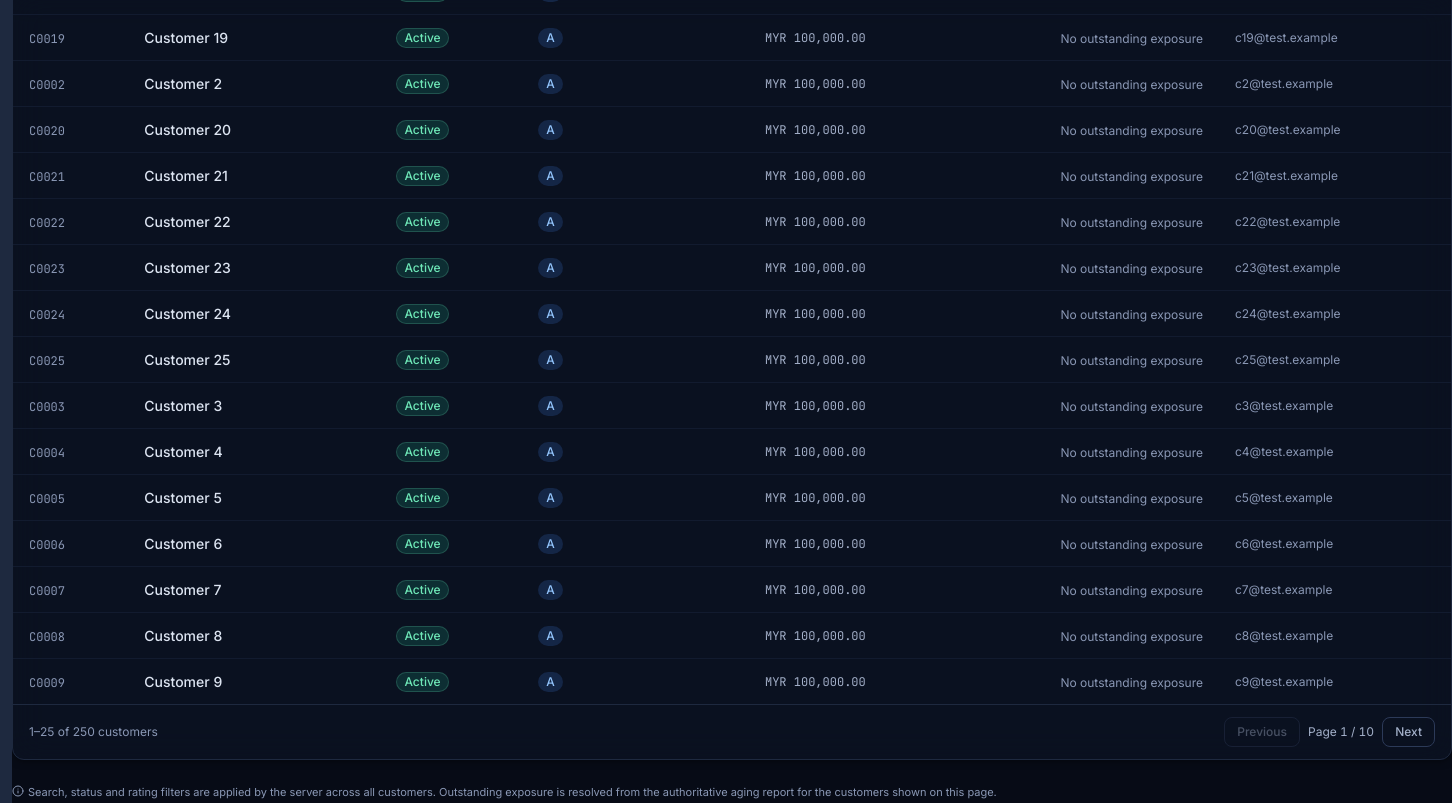
Test: Customer list — server pagination (B9DD-RR-002) › requests the correct server page when opening page 2
(page scrolled)
Click the button "Next" at (1409, 732), box [1382,717,1435,747]
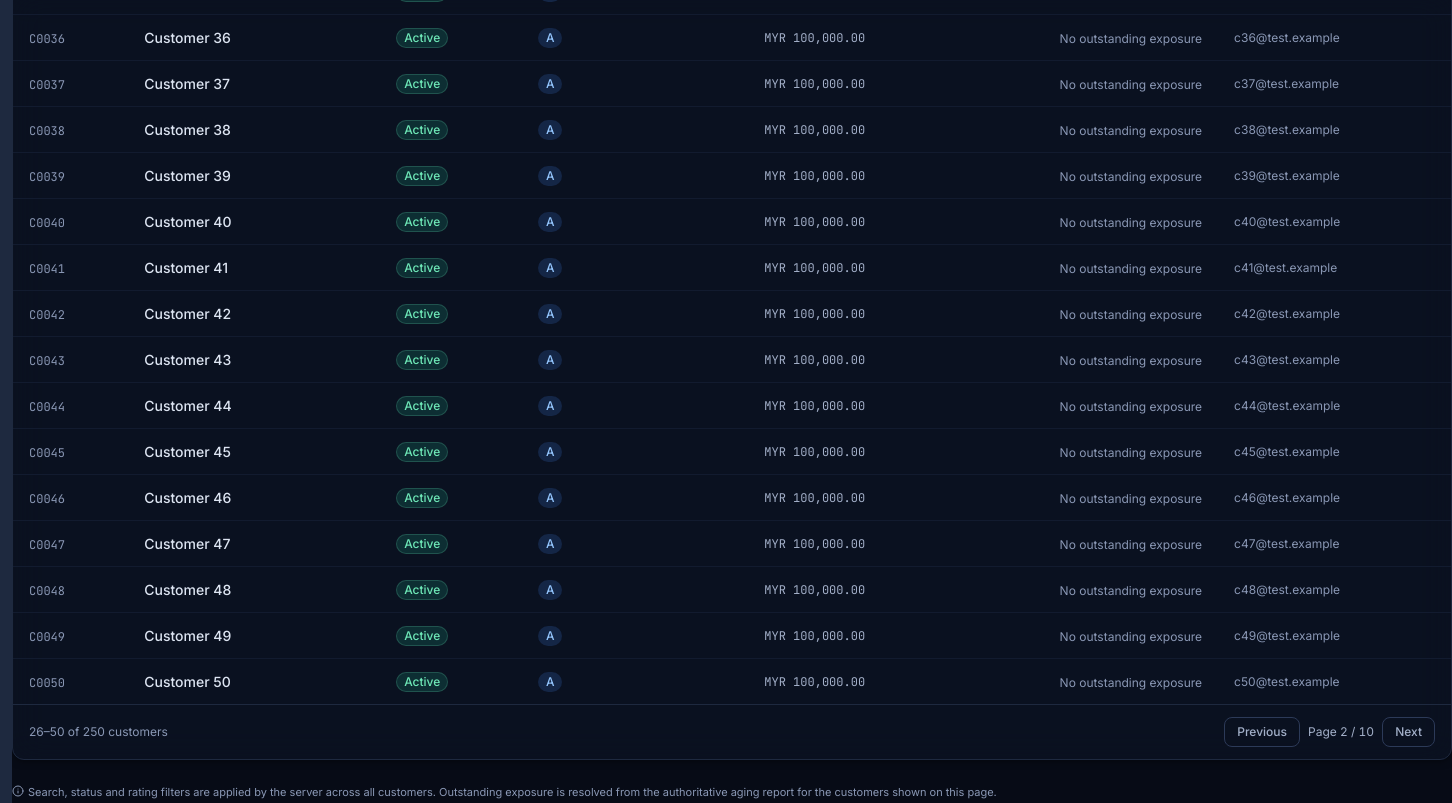
Expected: the text "Page 2 / 10" is shown, [1308,724,1374,740]
